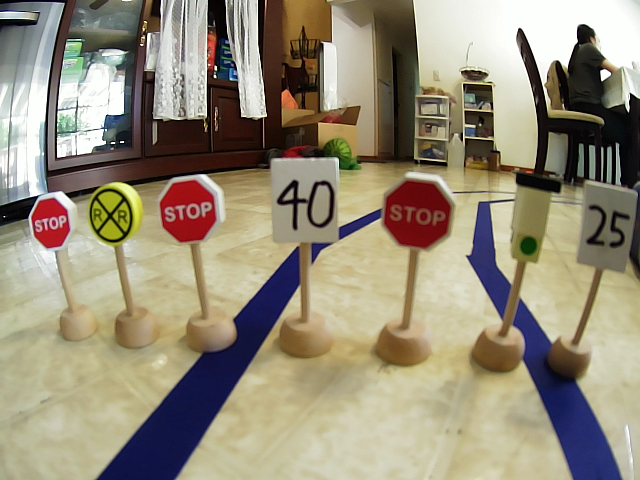25: (577, 176, 638, 275)
40: (272, 160, 342, 243)
green: (506, 172, 562, 268)
rail: (88, 180, 143, 245)
stop: (376, 172, 460, 255), (157, 172, 229, 247), (28, 191, 80, 250)
